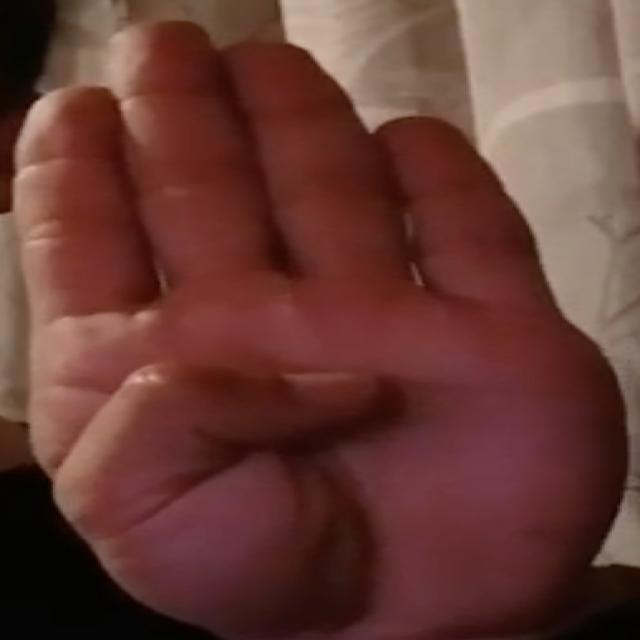B: (7, 13, 633, 635)
